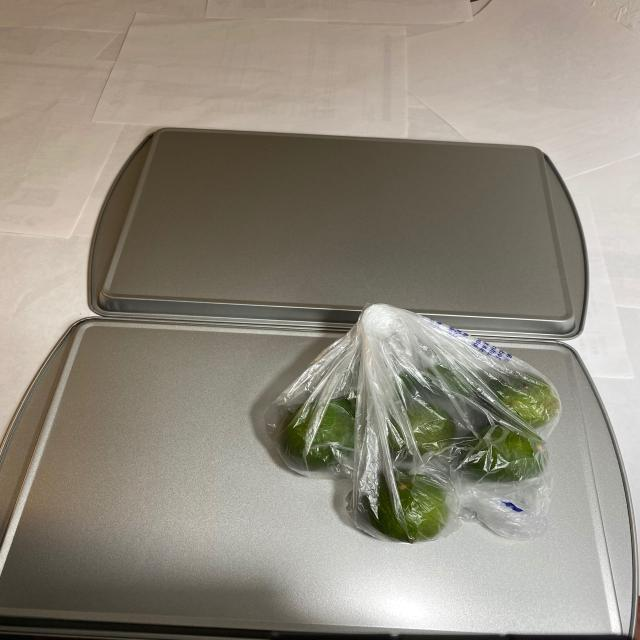lemon: (275, 338, 561, 539)
